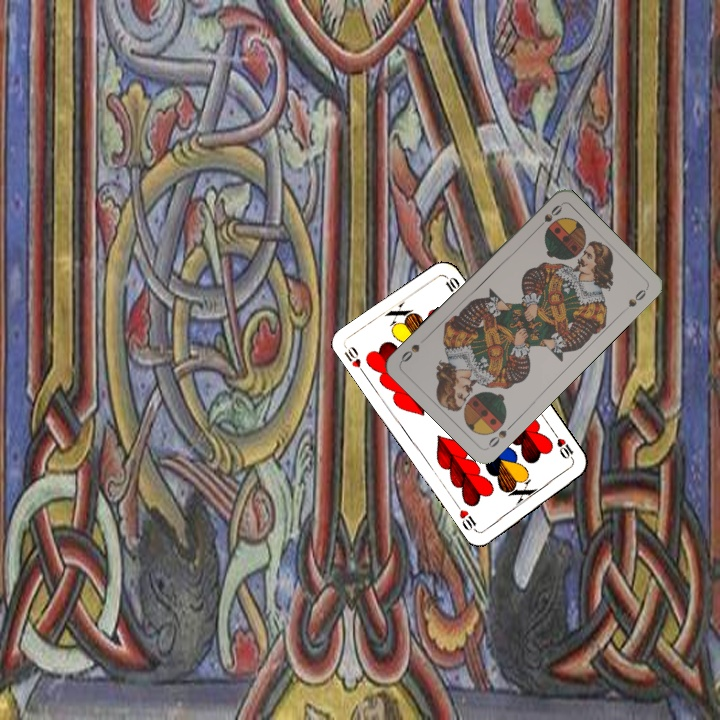H10: (340, 342, 369, 379), (550, 428, 577, 465)
SO: (532, 201, 565, 233), (484, 419, 516, 450)
